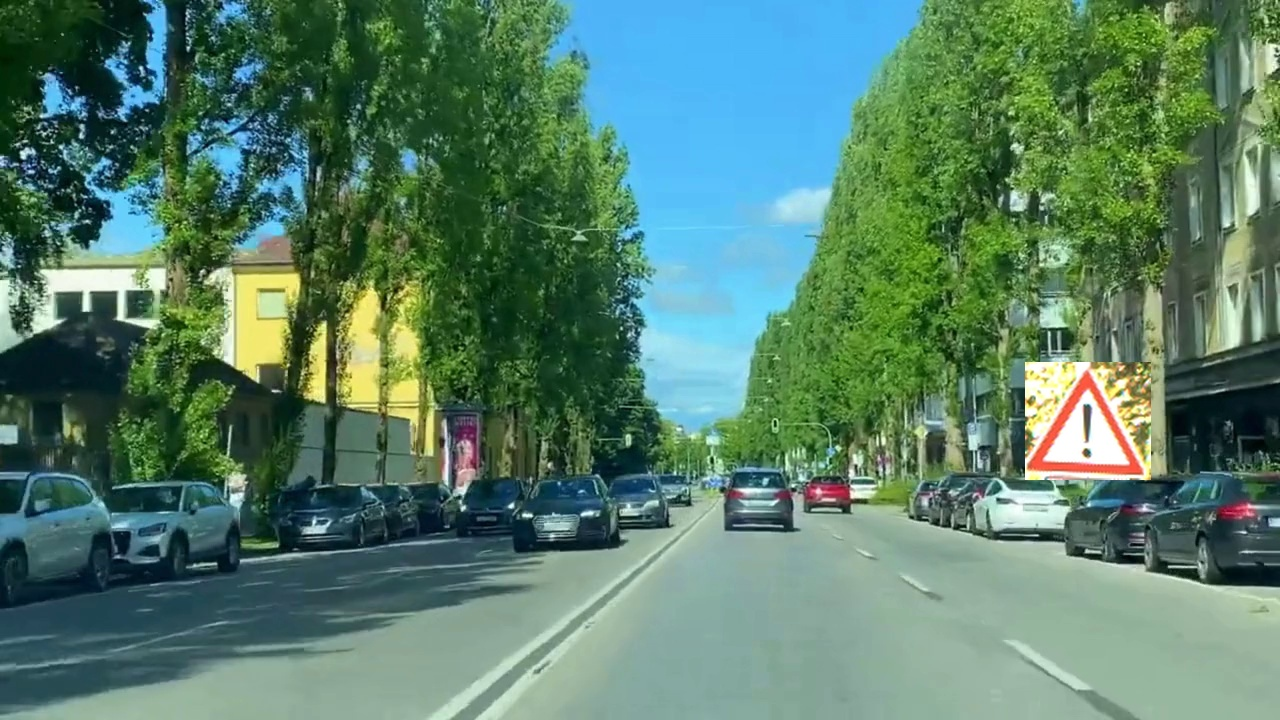Caution: (1025, 362, 1151, 480)
